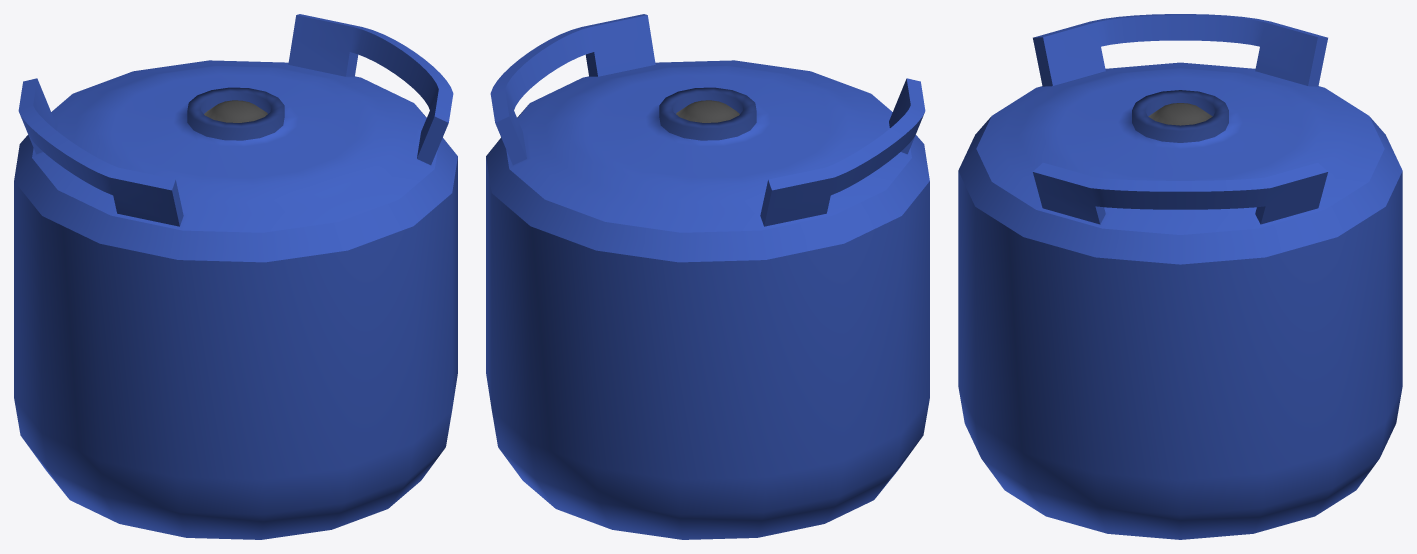
Rendered from gas20.glb.
3 renders of one model, left to right at view 1: azimuth 30°, elevation 25°; view 2: azimuth 150°, elevation 25°; view 3: azimuth 270°, elevation 25°, orthographic.
Parts seen in each view (by area): view 1: Gas20; view 2: Gas20; view 3: Gas20.
Boxes of the visible parts, box(x1,y1,x2,y2) form: Gas20: box(14, 14, 457, 539); Gas20: box(486, 14, 929, 539); Gas20: box(958, 14, 1402, 539).
Size of the model in its own units: 2.05 by 1.84 by 2.05.
